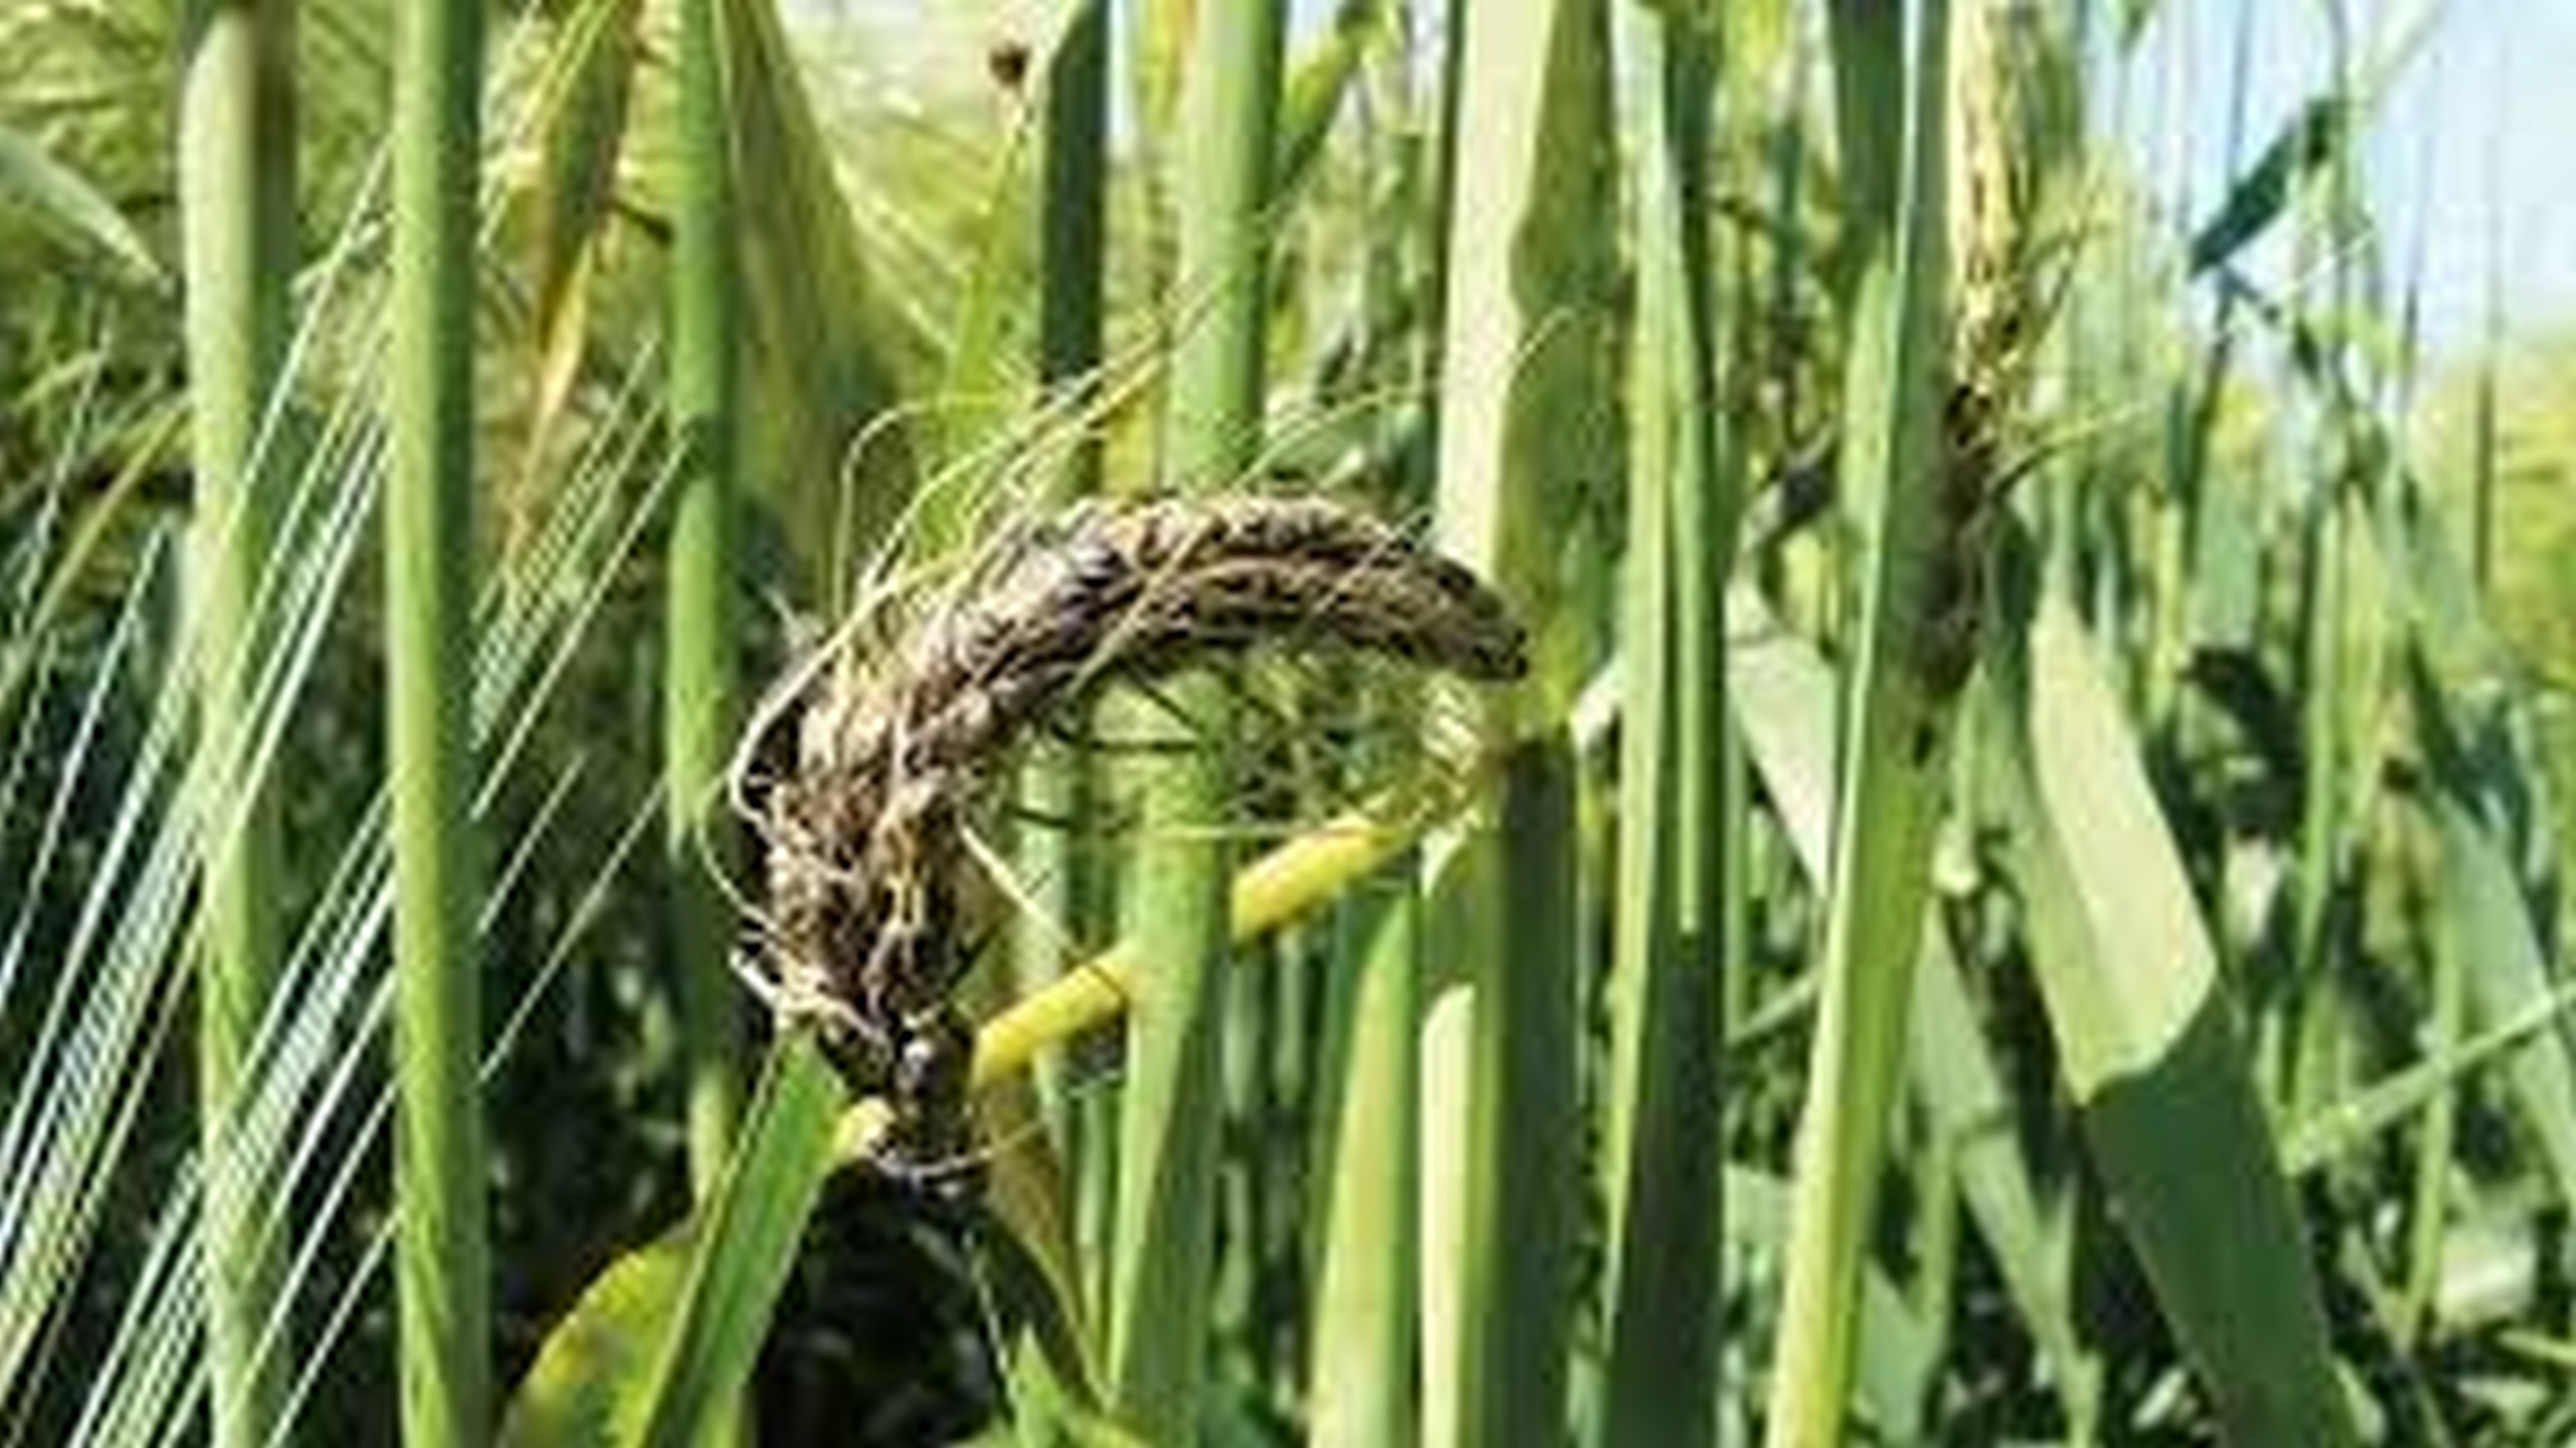Wheat Loose Smut: (761, 467, 1548, 1115)
